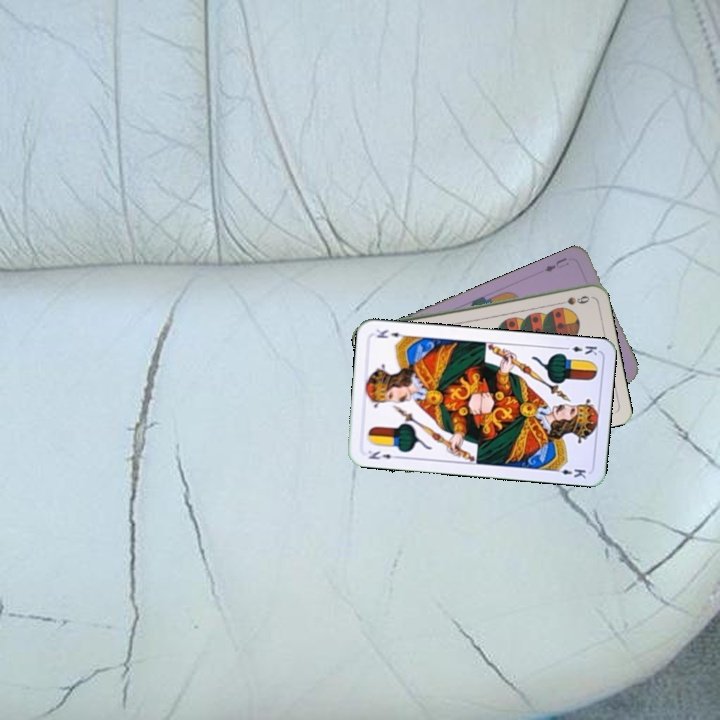EK: (559, 342, 600, 357), (364, 447, 402, 462)
EU: (540, 253, 571, 275)
S9: (552, 291, 592, 308)
